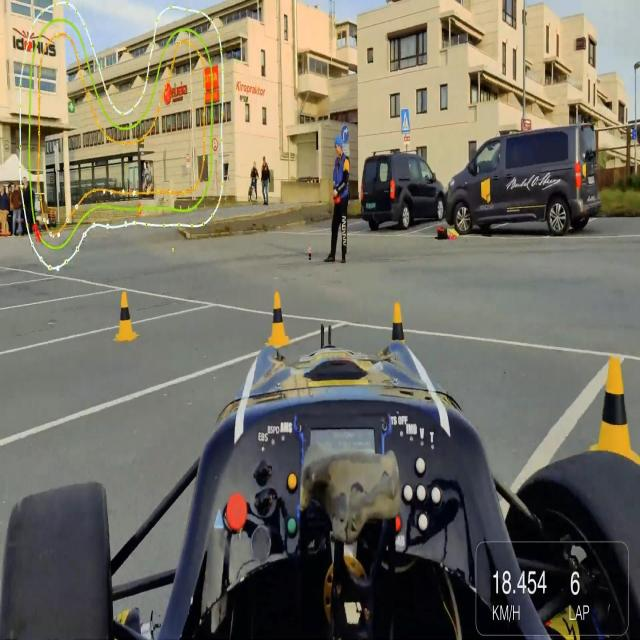yellow_cone: (596, 344, 635, 471), (266, 283, 292, 351), (388, 291, 412, 352), (114, 289, 138, 343)
